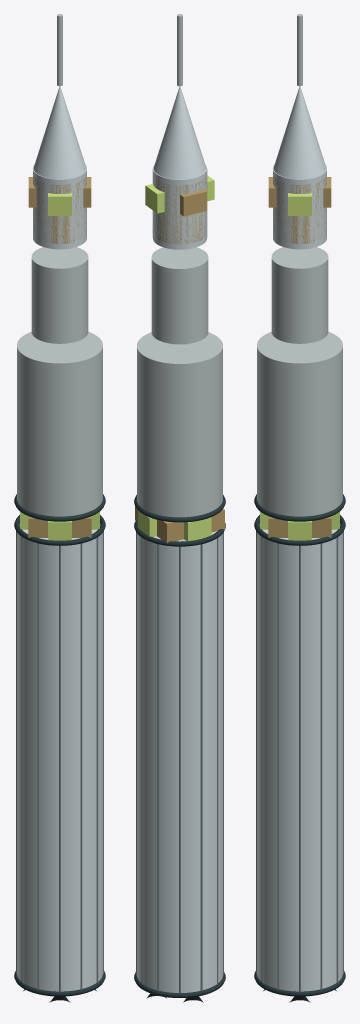
File: saturn-v.glb
3 renders of one model, left to right at view 1: azimuth 90°, elevation 25°; view 2: azimuth 210°, elevation 25°; view 3: azimuth 270°, elevation 25°, orthographic.
Parts seen in each view (by area): view 1: stage-1, stage-2, fairing, stage-3, payload, avionics; view 2: stage-1, stage-2, fairing, stage-3, payload, avionics; view 3: stage-1, stage-2, fairing, stage-3, payload, avionics.
Part boxes in pixels (left/top/right/bottom): stage-1: left=14, top=515, right=105, bottom=996; stage-2: left=14, top=331, right=105, bottom=521; fairing: left=33, top=14, right=86, bottom=249; stage-3: left=31, top=247, right=88, bottom=343; payload: left=28, top=176, right=91, bottom=243; avionics: left=20, top=511, right=99, bottom=540; stage-1: left=134, top=520, right=225, bottom=997; stage-2: left=134, top=332, right=225, bottom=522; fairing: left=152, top=14, right=207, bottom=249; stage-3: left=151, top=247, right=208, bottom=344; payload: left=145, top=175, right=214, bottom=244; avionics: left=135, top=506, right=224, bottom=543; stage-1: left=254, top=515, right=345, bottom=996; stage-2: left=254, top=331, right=345, bottom=521; fairing: left=273, top=14, right=326, bottom=249; stage-3: left=271, top=247, right=328, bottom=343; payload: left=268, top=176, right=331, bottom=243; avionics: left=260, top=511, right=339, bottom=540.
Bounding box in the file's own units: 0.7737 × 9.12 × 0.7737.
